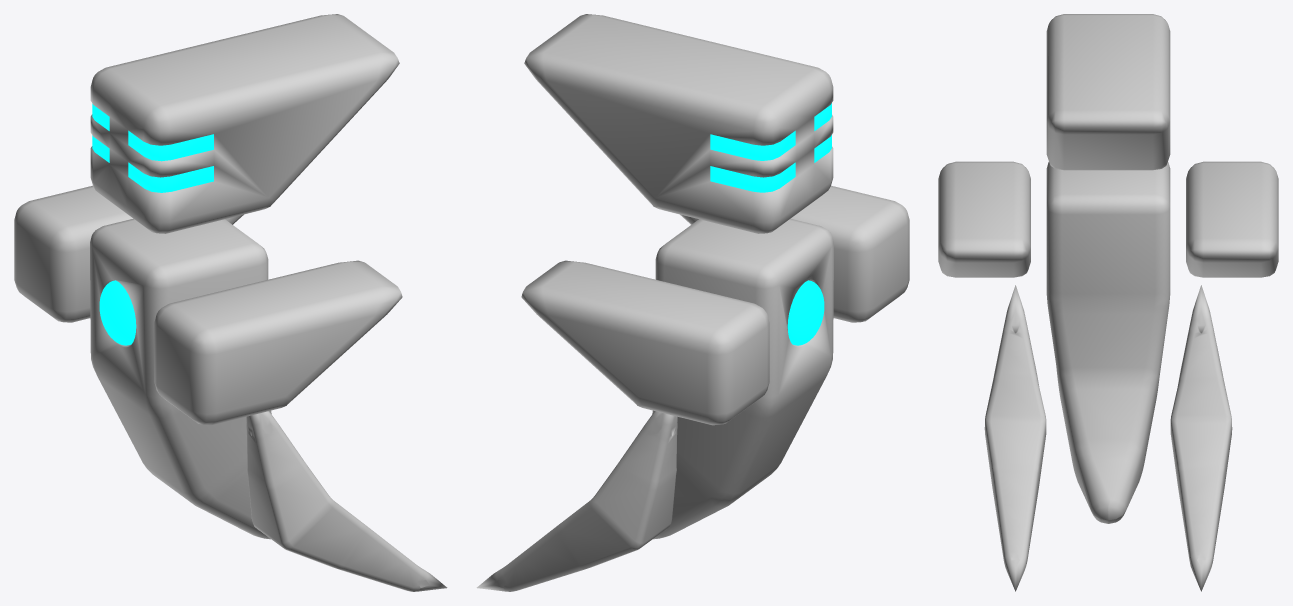
The model's file is BuildingSomethingReallyGood.fbx.
3 views of the same model, side by side, from view 1: azimuth 30°, elevation 25°; view 2: azimuth 150°, elevation 25°; view 3: azimuth 270°, elevation 25° (orthographic). The views are drawn at different scales.
Parts seen in each view (by area): view 1: Cube, Vert.001, Cube.004, Vert.003, Cube.002, Cube.009, Sphere; view 2: Cube, Vert.001, Cube.002, Vert.002, Cube.004, Cube.009, Sphere; view 3: Vert.001, Cube, Vert.003, Vert.002, Cube.004, Cube.002.
Part boxes in pixels (bbox=[...]): Cube: bbox=[90, 14, 399, 233]; Vert.001: bbox=[90, 218, 271, 539]; Cube.004: bbox=[154, 260, 402, 425]; Vert.003: bbox=[246, 411, 447, 591]; Cube.002: bbox=[14, 185, 243, 322]; Cube.009: bbox=[92, 104, 213, 192]; Sphere: bbox=[99, 280, 136, 345]; Cube: bbox=[524, 14, 833, 233]; Vert.001: bbox=[652, 218, 833, 539]; Cube.002: bbox=[521, 260, 769, 425]; Vert.002: bbox=[476, 411, 677, 591]; Cube.004: bbox=[680, 185, 909, 322]; Cube.009: bbox=[710, 103, 831, 192]; Sphere: bbox=[787, 280, 824, 345]; Vert.001: bbox=[1046, 162, 1170, 523]; Cube: bbox=[1046, 14, 1170, 170]; Vert.003: bbox=[984, 285, 1046, 591]; Vert.002: bbox=[1170, 285, 1232, 591]; Cube.004: bbox=[938, 161, 1030, 277]; Cube.002: bbox=[1186, 161, 1278, 277].
Size of the model in its own units: 11 by 9.62 by 16.56.
